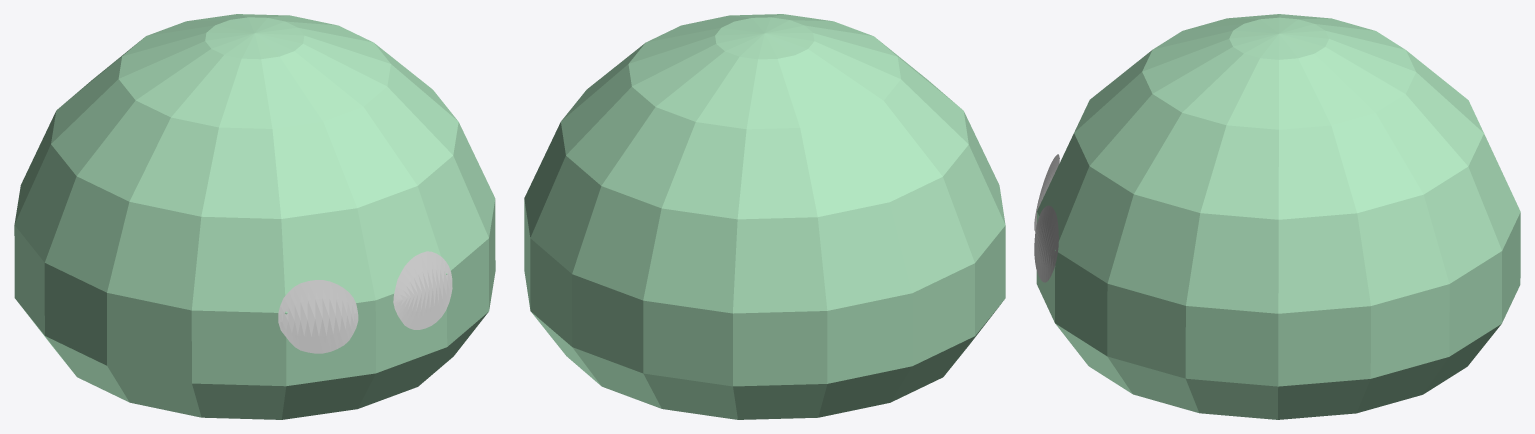
Rendered from slime_mesh.fbx.
3 renders of one model, left to right at view 1: azimuth 30°, elevation 25°; view 2: azimuth 150°, elevation 25°; view 3: azimuth 270°, elevation 25°, orthographic.
Parts seen in each view (by area): view 1: Skin1; view 2: Skin1; view 3: Skin1.
Boxes of the visible parts, x1,y1,x2,y2 form: Skin1: [14, 14, 495, 419]; Skin1: [524, 14, 1005, 419]; Skin1: [1034, 14, 1520, 419].
Size of the model in its own units: 1.94 by 1.95 by 1.42.
